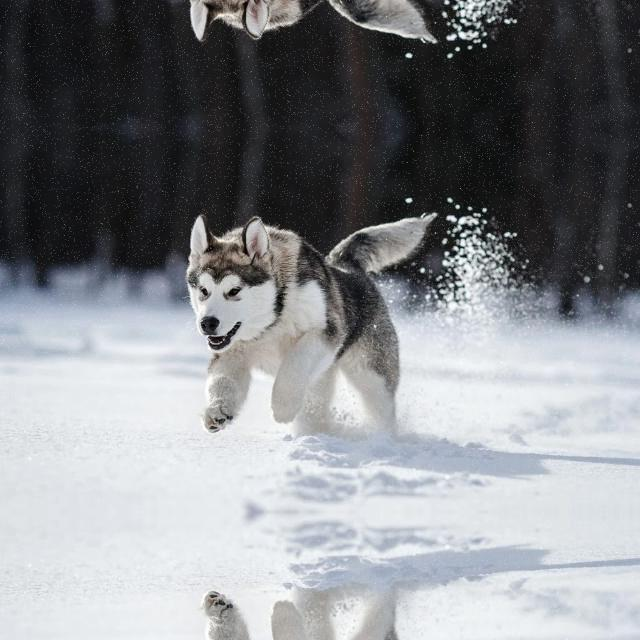dog: (164, 194, 430, 498), (165, 524, 430, 640), (165, 0, 430, 60)
